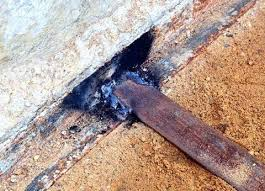rust: (53, 31, 184, 133), (142, 106, 217, 154), (201, 137, 264, 188)
